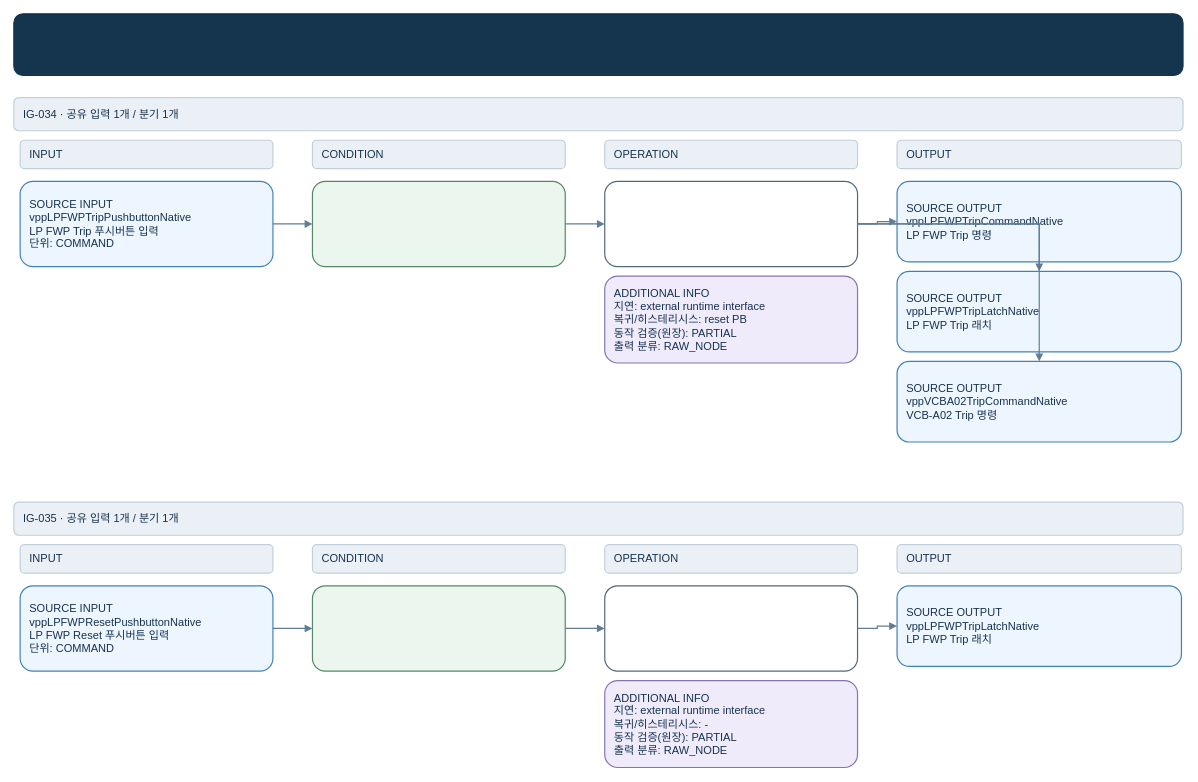
The diagram is 1198 pixels wide and 782 high, and some of its shapes have lost their labels. Here are the shapes that lost their labels. From the top down, the centre of each, then its label:
At (598,44): "TripLens / FWP LP 원장 기반 로직도 · 조건 실행기가 아님".
At (438,223): "CMD-FWP-LP-TRIP operator/test PB writes trip command through runtime interface".
At (731,223): "CMD-FWP-LP-TRIP LP FWP trip command interface COMMAND_INTERFACE".
At (438,628): "CMD-FWP-LP-RESET operator/test reset PB".
At (731,628): "CMD-FWP-LP-RESET LP FWP reset command interface COMMAND_INTERFACE".
